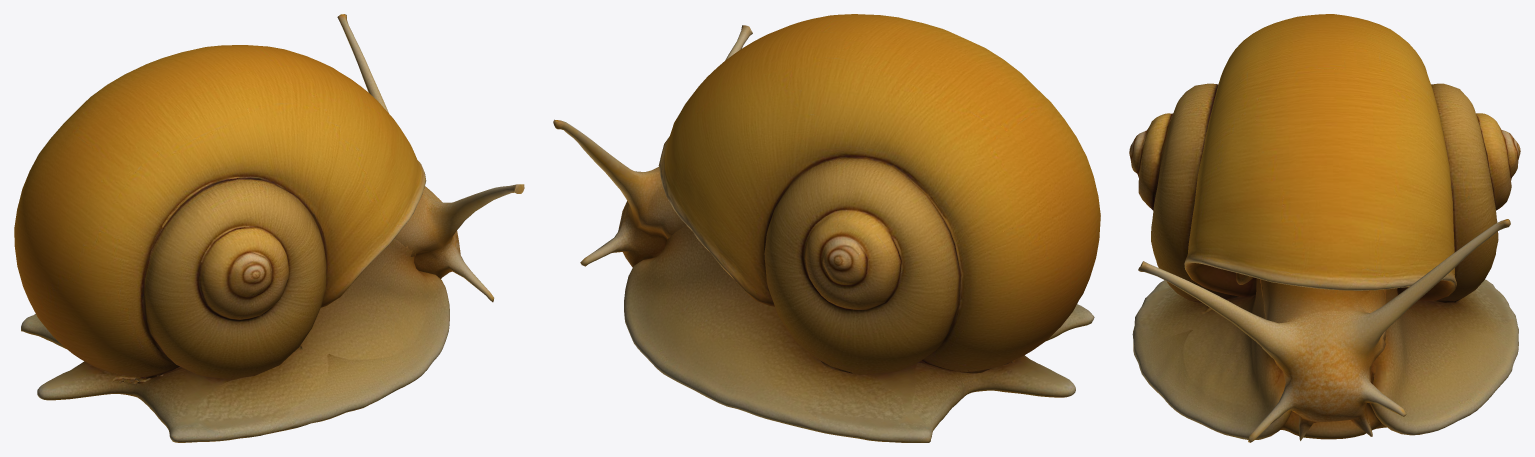
Rendered from mystery_snail.glb.
3 renders of one model, left to right at view 1: azimuth 30°, elevation 25°; view 2: azimuth 150°, elevation 25°; view 3: azimuth 270°, elevation 25°, orthographic. The views are drawn at different scales.
Visible parts, largest first — view 1: tripo_part_1, tripo_part_0, tripo_part_2; view 2: tripo_part_1, tripo_part_0, tripo_part_2; view 3: tripo_part_1, tripo_part_0, tripo_part_2.
Boxes of the visible parts, x1=… form: tripo_part_1: x1=14, y1=45, x2=426, y2=383; tripo_part_0: x1=21, y1=239, x2=449, y2=442; tripo_part_2: x1=337, y1=14, x2=524, y2=302; tripo_part_1: x1=658, y1=14, x2=1100, y2=375; tripo_part_0: x1=624, y1=225, x2=1094, y2=442; tripo_part_2: x1=553, y1=25, x2=752, y2=267; tripo_part_1: x1=1129, y1=14, x2=1520, y2=302; tripo_part_0: x1=1132, y1=278, x2=1518, y2=439; tripo_part_2: x1=1138, y1=219, x2=1510, y2=442.
Bounding box in the file's own units: 0.9751 × 0.6622 × 0.752.
Materials: 3 (3 with a texture image).
